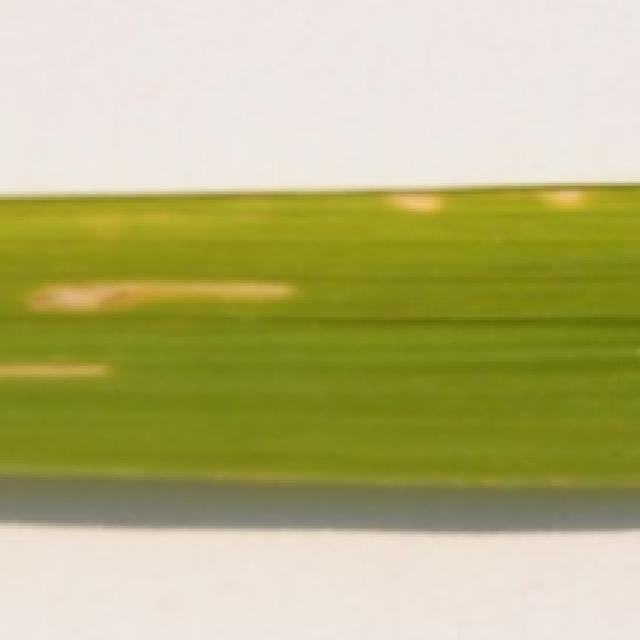Rice___Bacterial_Leaf_Blight: (0, 179, 637, 489)
